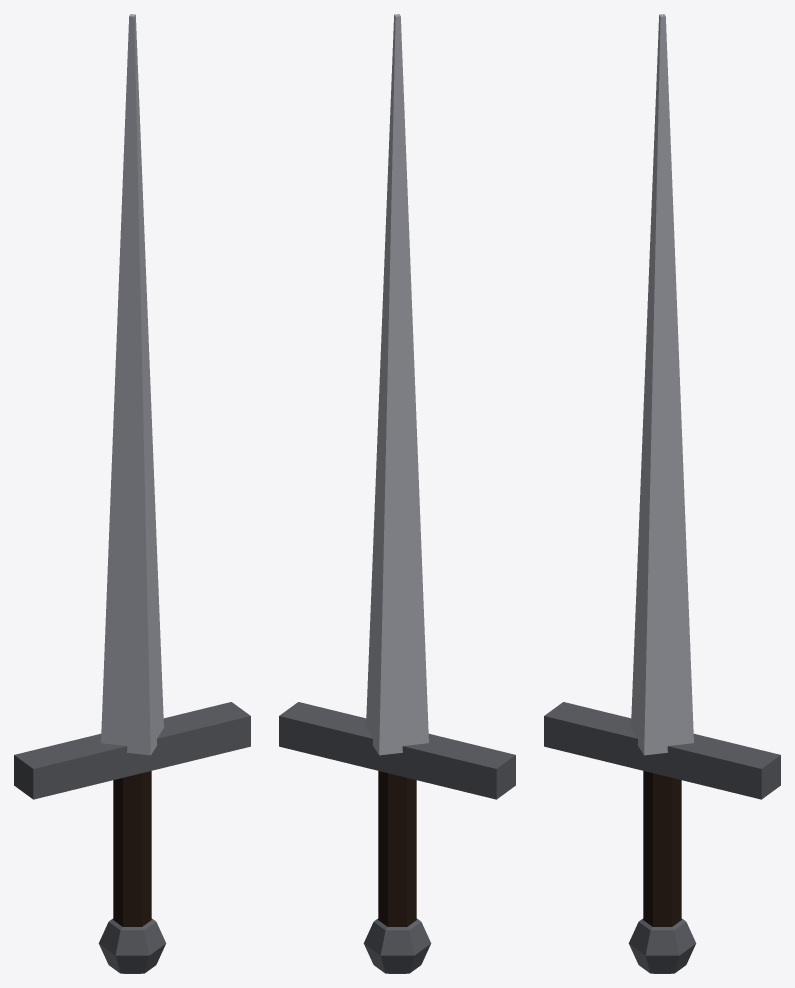
Rendered from wpn_sword.glb.
The picture shows the model from 3 angles, left to right: view 1: azimuth 30°, elevation 25°; view 2: azimuth 150°, elevation 25°; view 3: azimuth 330°, elevation 25°; orthographic projection.
Parts seen in each view (by area): view 1: wpn_sword; view 2: wpn_sword; view 3: wpn_sword.
Boxes of the visible parts, bbox=[...] form: wpn_sword: bbox=[14, 14, 250, 973]; wpn_sword: bbox=[279, 14, 515, 973]; wpn_sword: bbox=[544, 14, 780, 973].
Size of the model in its own units: 0.26 by 1.09 by 0.076.
